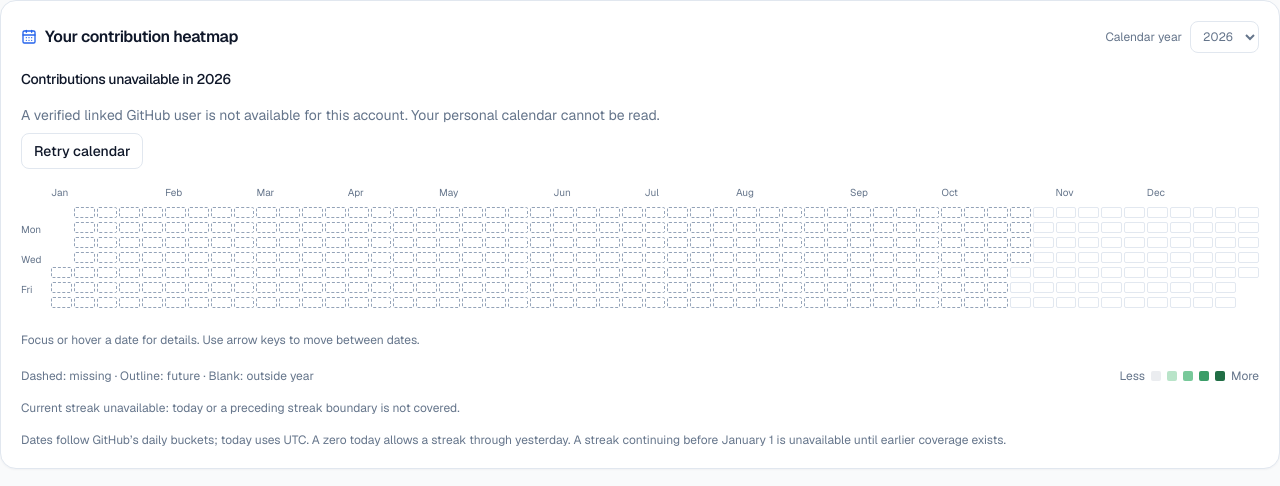
Test: shows dynamic year headings, honest unavailability, and historical-year totals without a current streak
Expected: the message shows "verified linked GitHub user is not available", [21, 106, 660, 124]
Select "2025" in the dropdown labelled "Calendar year". click: [1224, 37]
box: [1190, 21, 1259, 53]
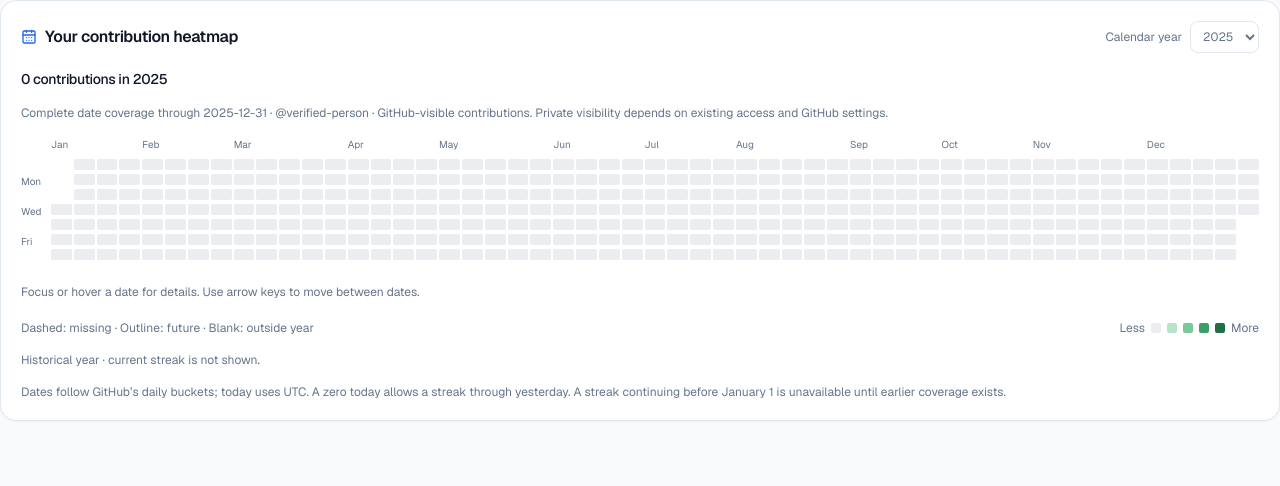
Expected: the text "Historical year · current streak is not shown." is shown, [21, 352, 260, 368]
